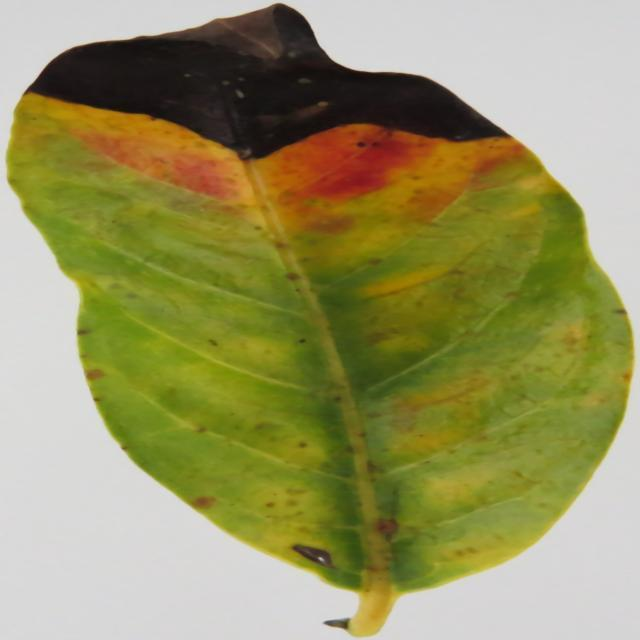DeficienciaNutricional-Fosforo: (10, 5, 633, 636)
